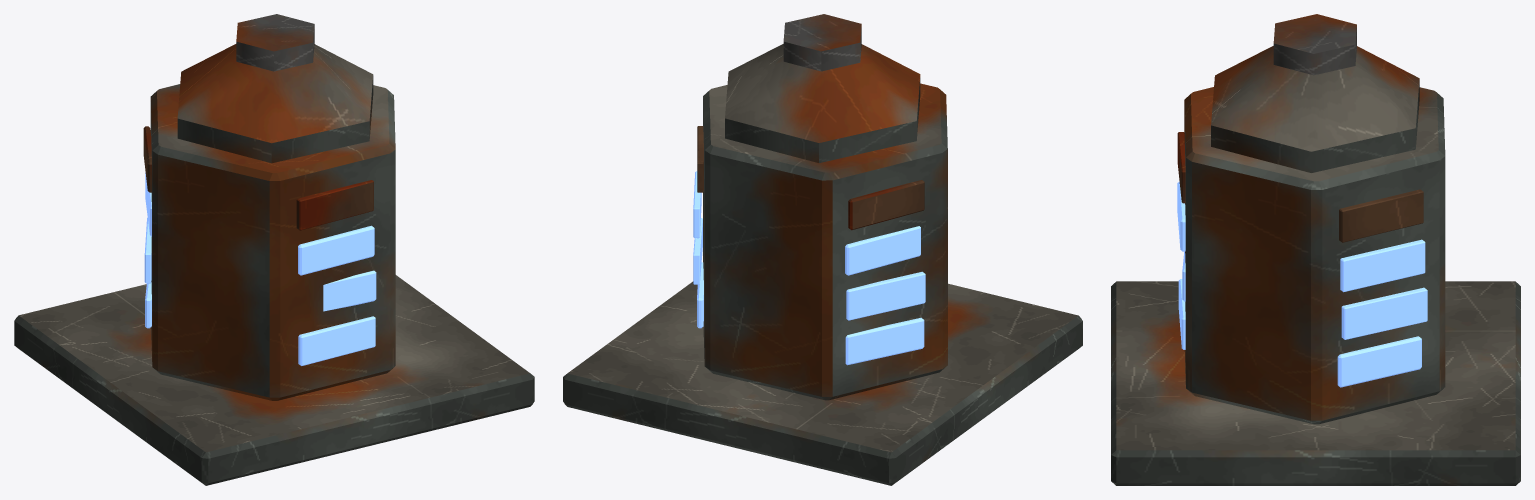
File: R4X_ChargeCapacity_LOD1.glb
3 renders of one model, left to right at view 1: azimuth 30°, elevation 25°; view 2: azimuth 150°, elevation 25°; view 3: azimuth 270°, elevation 25°, orthographic. The views are drawn at different scales.
Parts seen in each view (by area): view 1: R4X_ChargeCapacity_LOD1; view 2: R4X_ChargeCapacity_LOD1; view 3: R4X_ChargeCapacity_LOD1.
Part boxes in pixels (left/top/right/bottom): R4X_ChargeCapacity_LOD1: left=14, top=14, right=534, bottom=485; R4X_ChargeCapacity_LOD1: left=563, top=14, right=1082, bottom=485; R4X_ChargeCapacity_LOD1: left=1111, top=14, right=1520, bottom=485.
Size of the model in its own units: 0.52 by 0.515 by 0.52.
Materials: 5 (4 with a texture image).
